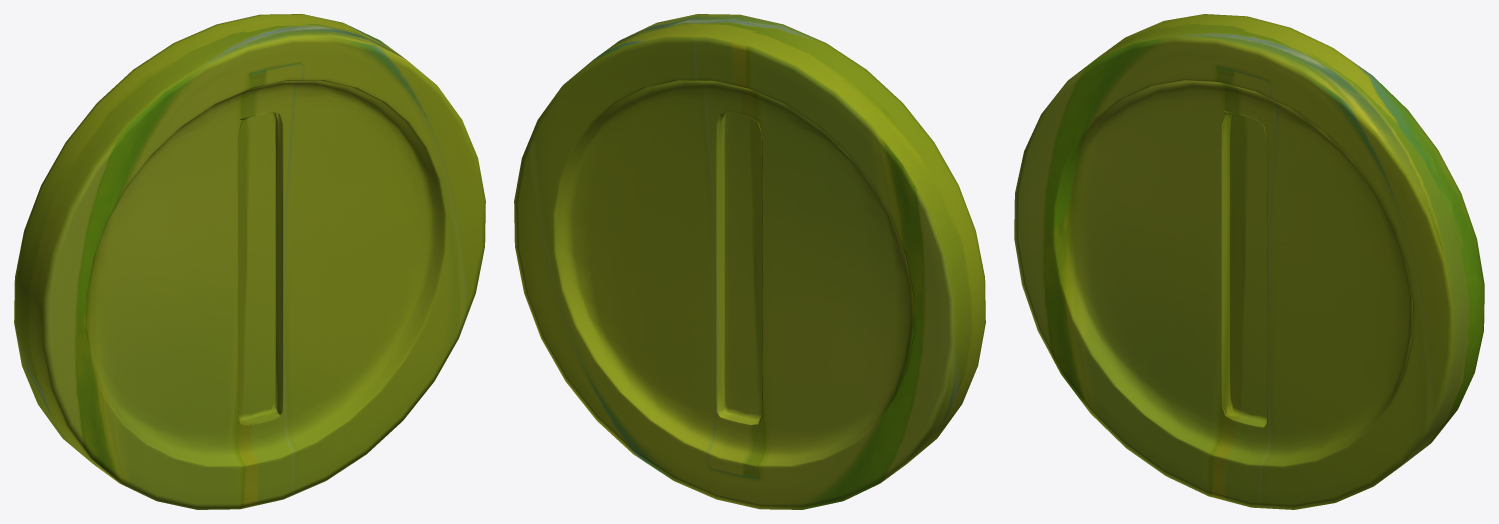
File: moneda de mario.fbx
3 views of the same model, side by side, from view 1: azimuth 30°, elevation 25°; view 2: azimuth 150°, elevation 25°; view 3: azimuth 330°, elevation 25° (orthographic).
Visible parts, largest first — view 1: Plane; view 2: Plane; view 3: Plane.
Boxes of the visible parts, <box> form: Plane: <box>14,14,485,509</box>; Plane: <box>514,14,985,509</box>; Plane: <box>1014,14,1484,509</box>.
Bounding box in the file's own units: 251 × 251 × 31.39.
1 material, 1 textured.
